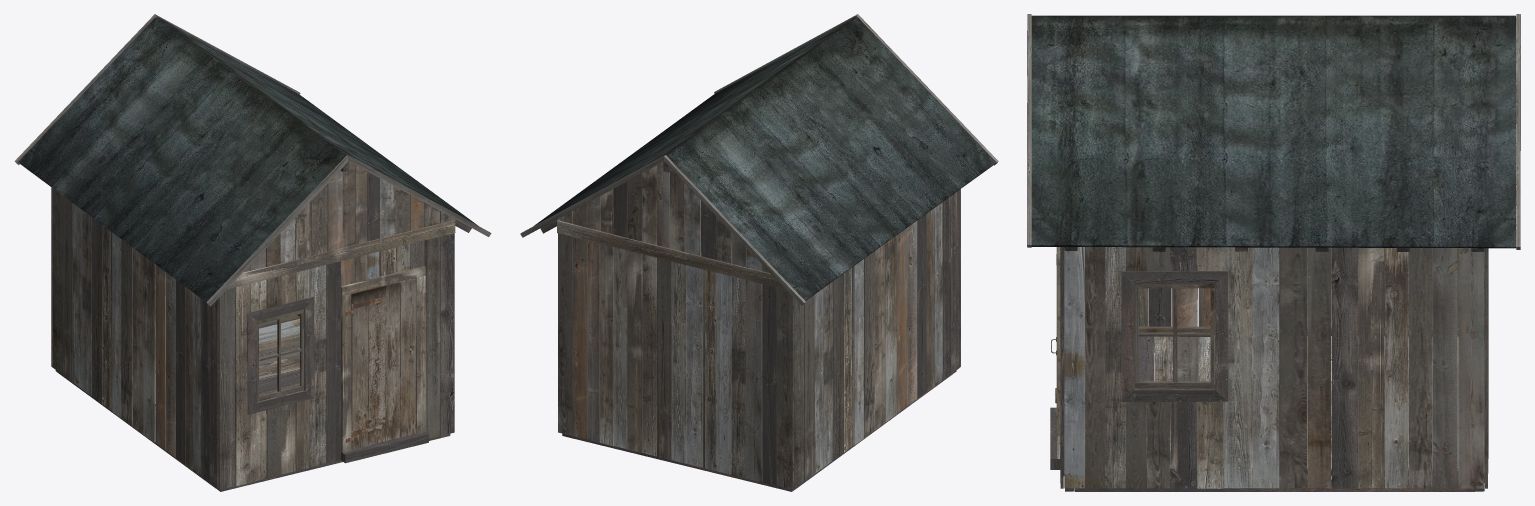
File: cabin_wood.glb
3 renders of one model, left to right at view 1: azimuth 30°, elevation 25°; view 2: azimuth 150°, elevation 25°; view 3: azimuth 270°, elevation 25°, orthographic. The views are drawn at different scales.
Parts seen in each view (by area): view 1: Base, Door; view 2: Base; view 3: Base.
Part boxes in pixels (x1,y1,x2,y2): Base: (14,14,491,491); Door: (351,278,416,448); Base: (520,14,998,491); Base: (1027,14,1520,491).
Bounding box in the file's own units: 299 × 320 × 353.
Materials: 1 (1 with a texture image).
